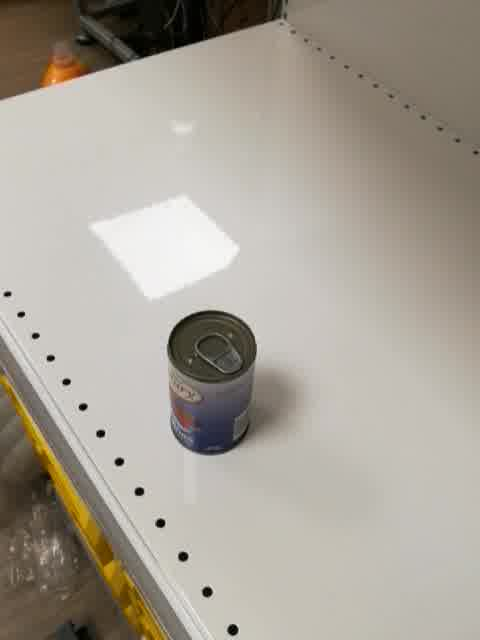sardine: (166, 309, 260, 458)
